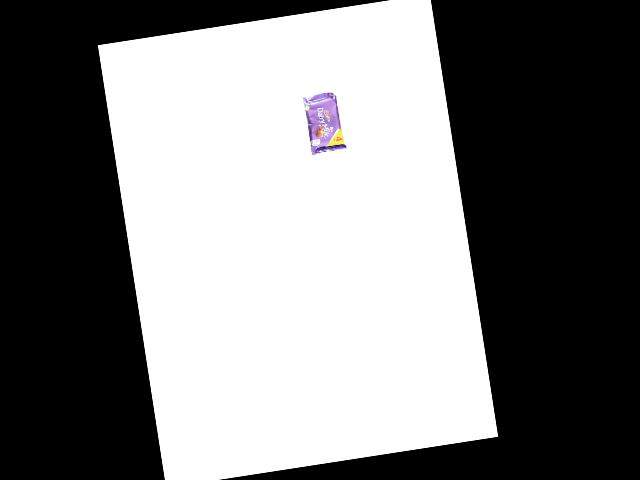chocolate: (297, 89, 347, 162)
